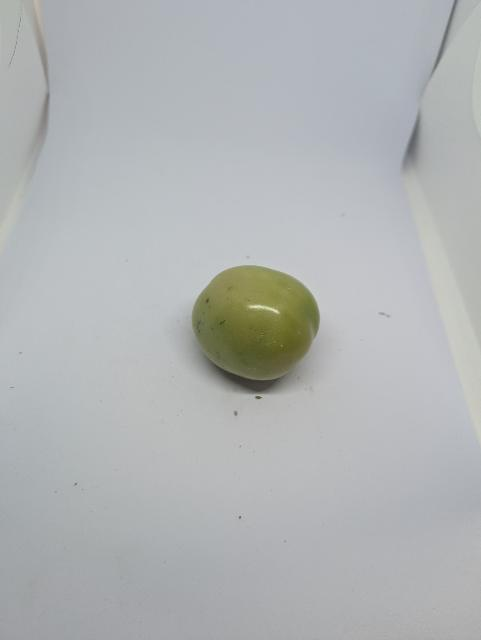green: (189, 262, 325, 384)
